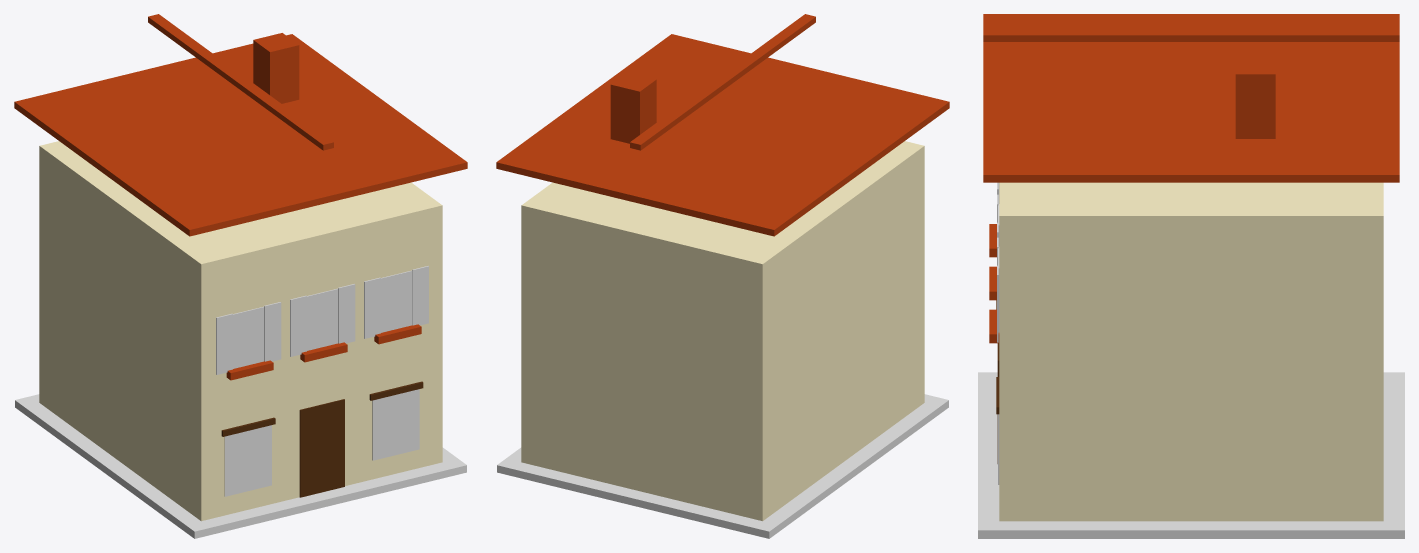
The model's file is building_townhouse.glb.
The picture shows the model from 3 angles, left to right: view 1: azimuth 30°, elevation 25°; view 2: azimuth 150°, elevation 25°; view 3: azimuth 270°, elevation 25°; orthographic projection. The views are drawn at different scales.
Parts seen in each view (by area): view 1: Building_European_Townhouse; view 2: Building_European_Townhouse; view 3: Building_European_Townhouse.
Part boxes in pixels (<box>): Building_European_Townhouse: <box>14,14,467,538</box>; Building_European_Townhouse: <box>496,14,949,538</box>; Building_European_Townhouse: <box>978,14,1404,538</box>.
Bounding box in the file's own units: 7.14 × 8.9 × 8.
